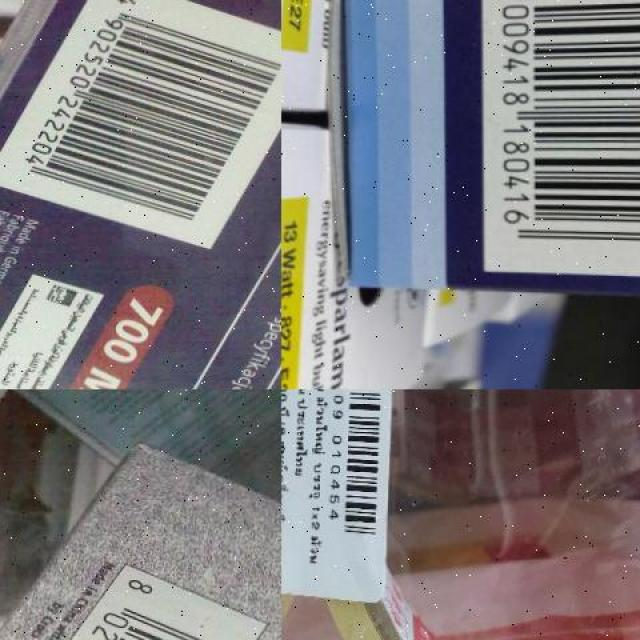Barcode: (0, 0, 281, 249), (481, 0, 639, 281), (0, 561, 269, 639), (330, 389, 390, 548)
